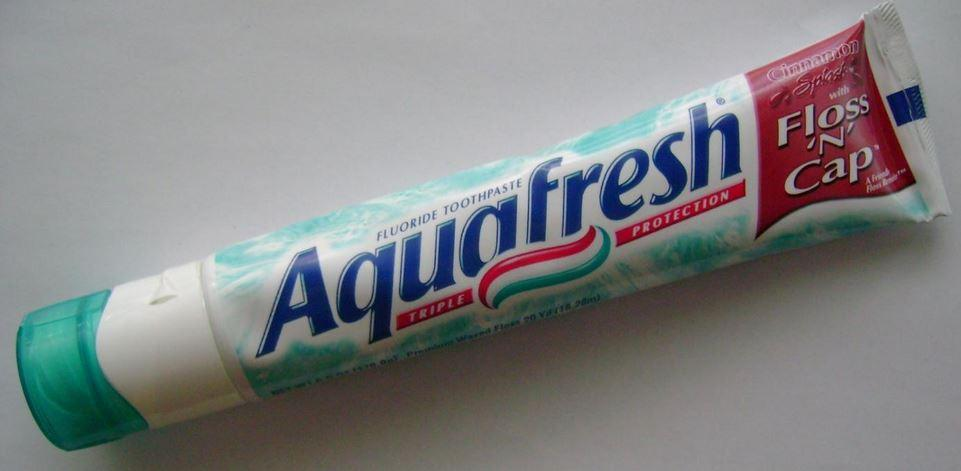toothpaste: (0, 8, 949, 465)
